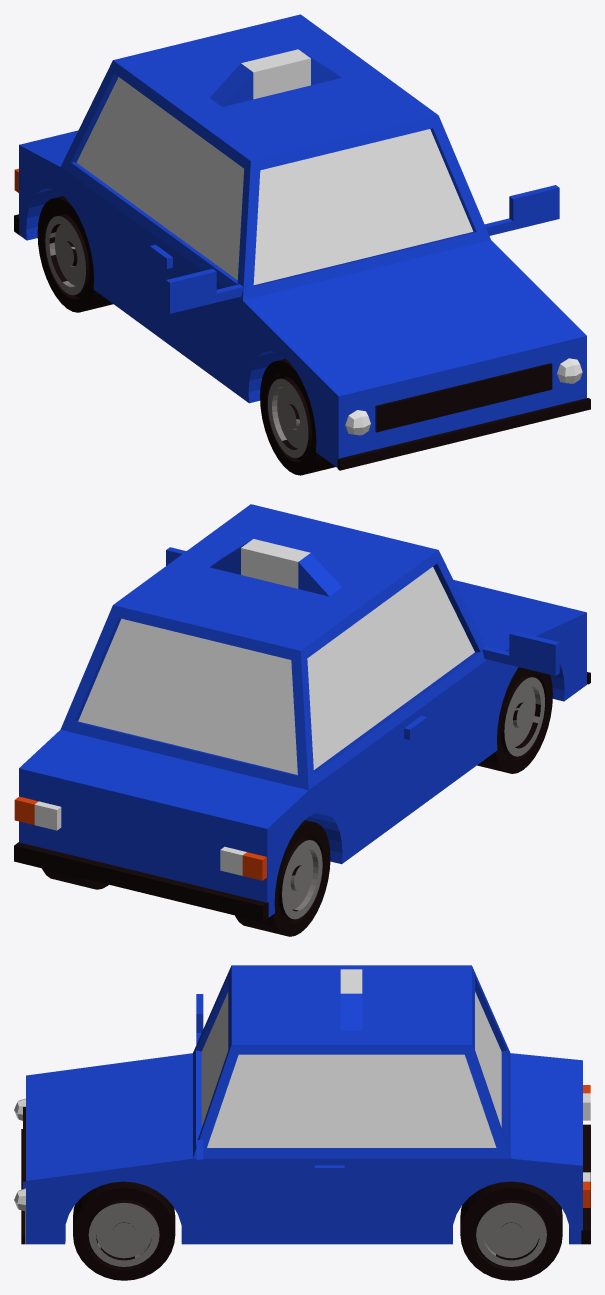
File: BLUECAR.fbx
The picture shows the model from 3 angles, top to bottom: view 1: azimuth 30°, elevation 25°; view 2: azimuth 150°, elevation 25°; view 3: azimuth 270°, elevation 25°; orthographic projection. The views are drawn at different scales.
Visible parts, largest first — view 1: Cube, Cube.001, Cube.006, Cube.005, Cube.002; view 2: Cube, Cube.001, Cube.006, Cube.005; view 3: Cube, Cube.005, Cube.006, Cube.001.
Boxes of the visible parts, x1,y1,x2,y2 form: Cube: (19, 14, 586, 467); Cube.001: (14, 168, 559, 432); Cube.006: (37, 196, 113, 312); Cube.005: (260, 359, 335, 475); Cube.002: (337, 398, 590, 470); Cube: (19, 504, 586, 917); Cube.001: (14, 547, 559, 922); Cube.006: (42, 820, 330, 936); Cube.005: (477, 667, 552, 773); Cube: (26, 965, 582, 1244); Cube.005: (73, 1181, 175, 1280); Cube.006: (460, 1181, 562, 1280); Cube.001: (23, 994, 590, 1244).
Bounding box in the file's own units: 398 × 280 × 586.
